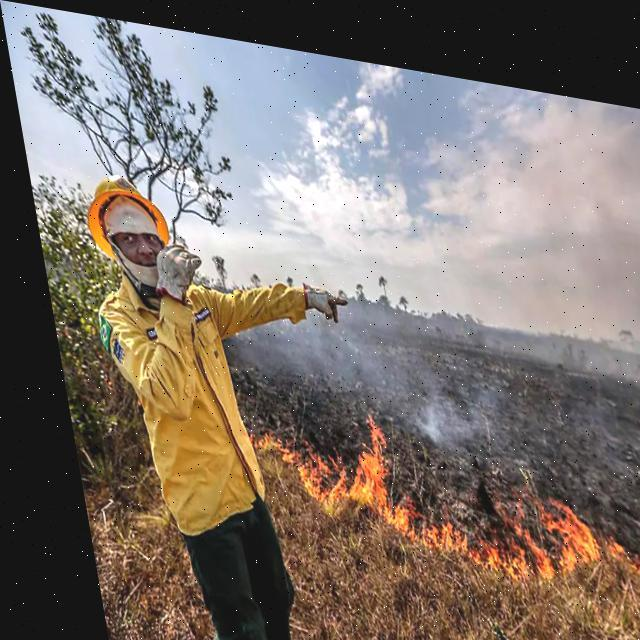Fire: (226, 383, 639, 597)
